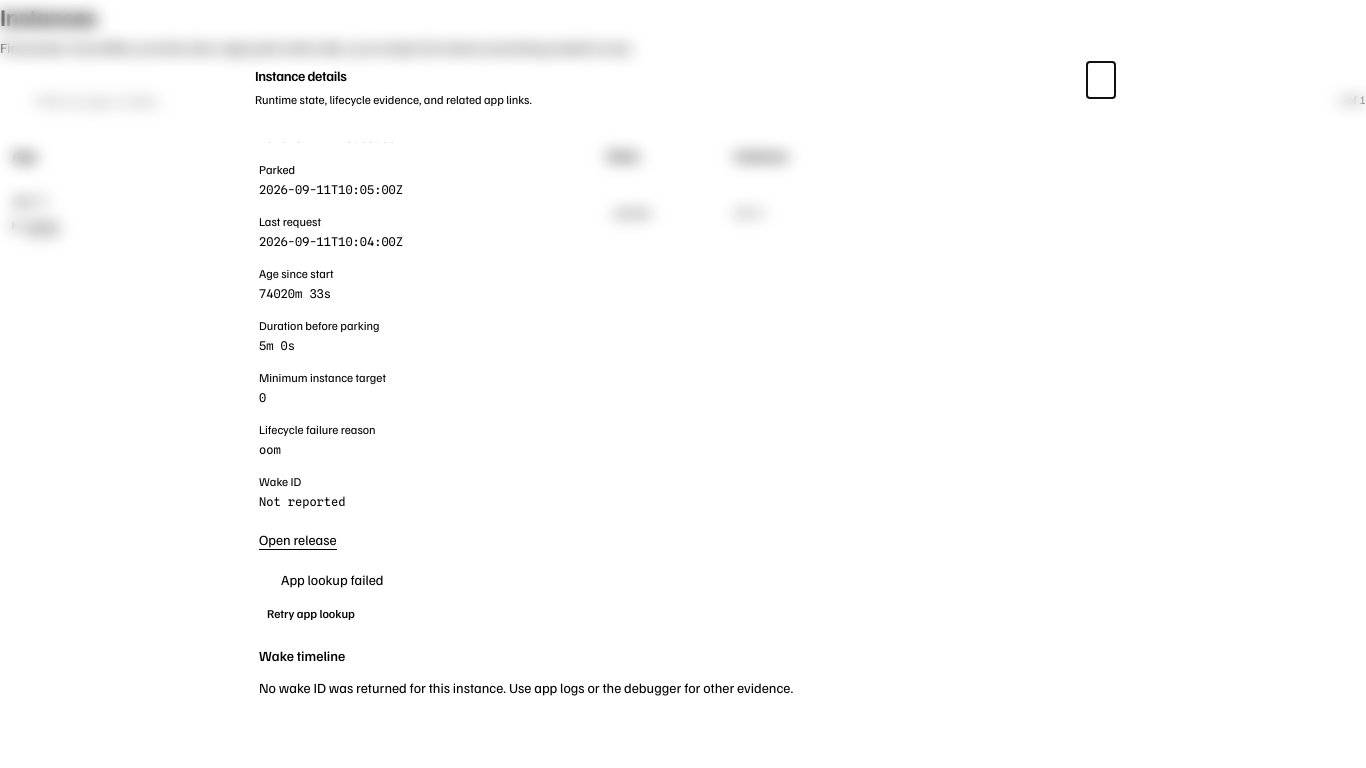
Instance details › shows independent app lookup recovery when it is error and there is no wake ID
(page scrolled)
Expected: the text "No wake ID was returned" is shown, [259,679,793,696]
Expected: the text "App lookup failed" is shown, [281,570,384,590]
Click the button "Retry app lookup".
click(311, 614)  # box [259,602,363,626]
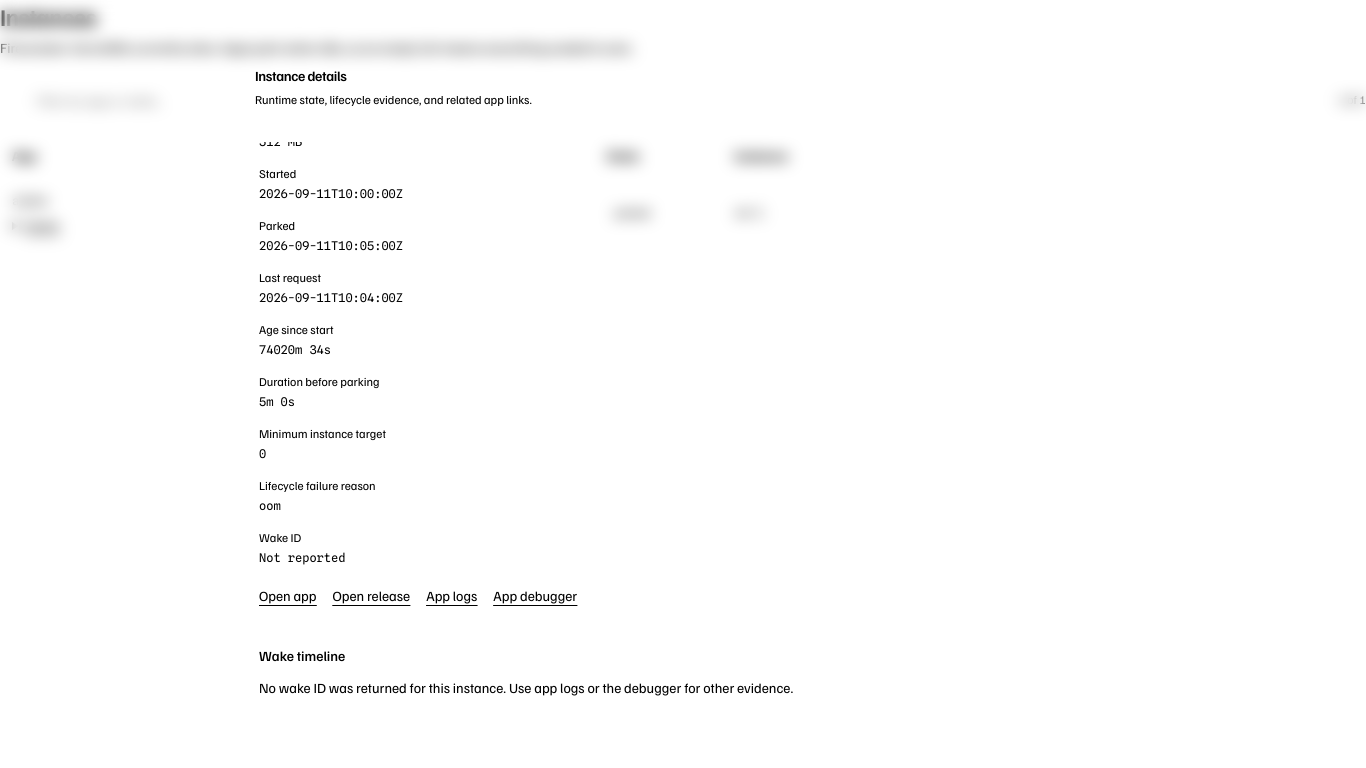
Now the text "App lookup failed" is gone
